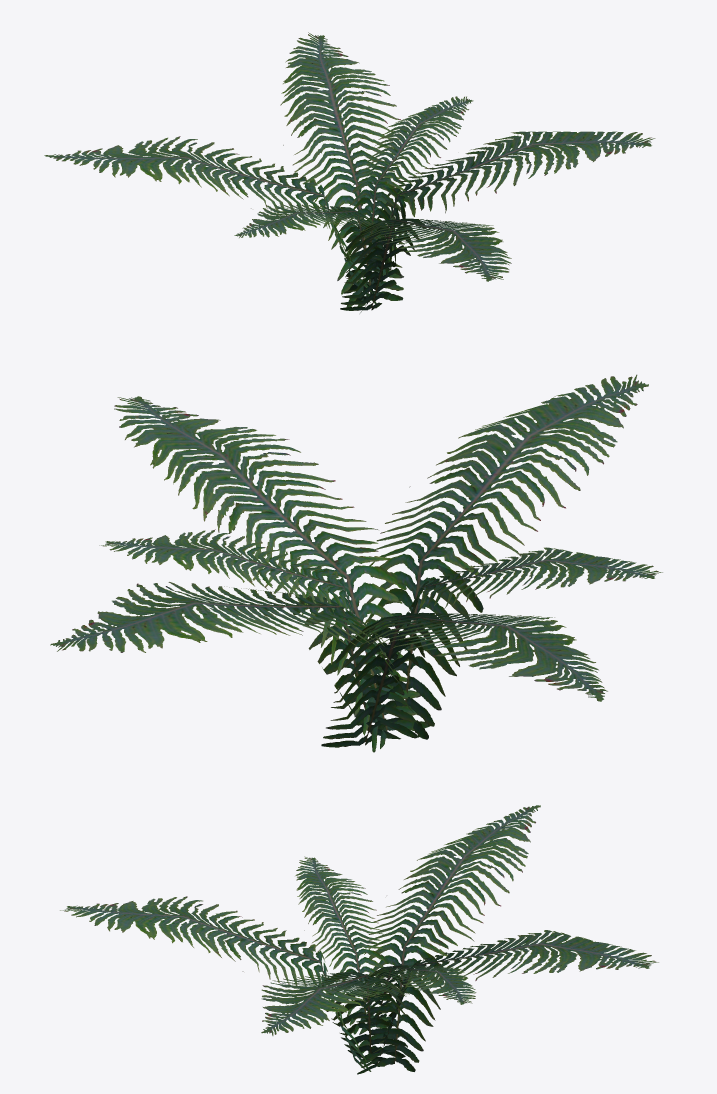
Rendered from bush_2s.fbx.
The picture shows the model from 3 angles, top to bottom: view 1: azimuth 30°, elevation 25°; view 2: azimuth 150°, elevation 25°; view 3: azimuth 270°, elevation 25°; orthographic projection. The views are drawn at different scales.
Parts seen in each view (by area): view 1: MDL-Camera_Root; view 2: MDL-Camera_Root; view 3: MDL-Camera_Root.
Boxes of the visible parts, x1,y1,x2,y2 form: MDL-Camera_Root: (44,32,655,312); MDL-Camera_Root: (50,374,662,752); MDL-Camera_Root: (60,805,658,1074).
Size of the model in its own units: 497 by 131 by 551.
